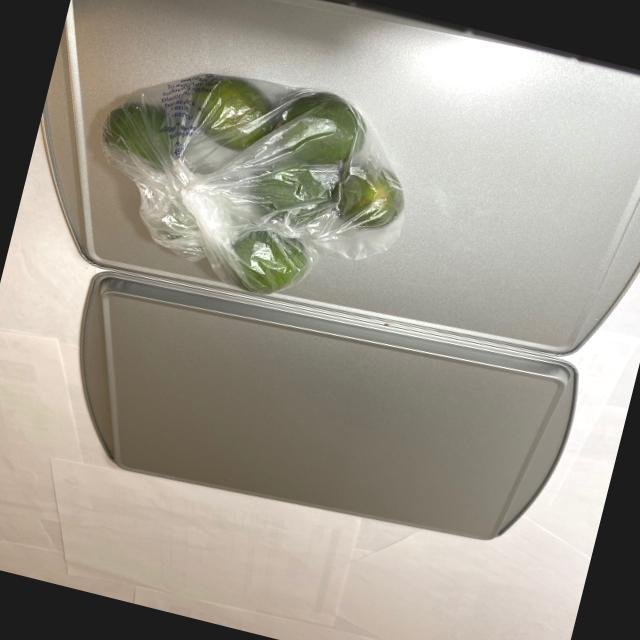lemon: (72, 40, 424, 321)
